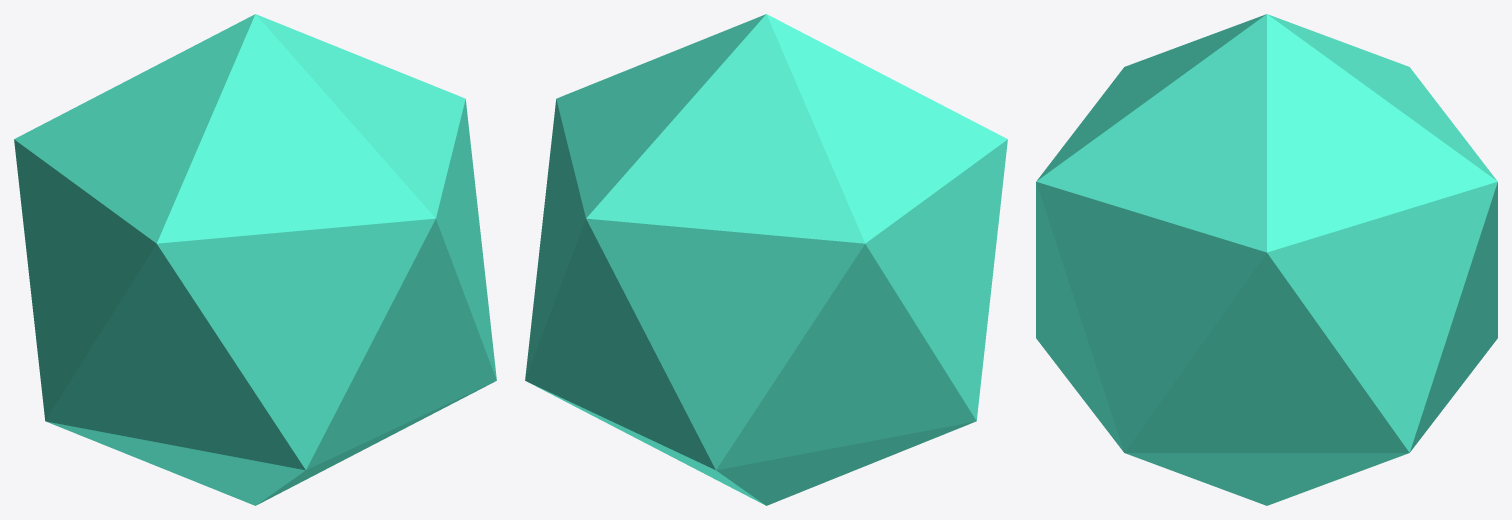
File: playerBullet.obj
3 views of the same model, side by side, from view 1: azimuth 30°, elevation 25°; view 2: azimuth 150°, elevation 25°; view 3: azimuth 270°, elevation 25° (orthographic).
Visible parts, largest first — view 1: ICO球; view 2: ICO球; view 3: ICO球.
Part boxes in pixels (x1,y1,x2,y2): ICO球: (14,14,496,505); ICO球: (525,14,1007,505); ICO球: (1036,14,1497,505).
Bounding box in the file's own units: 1.79 × 2 × 1.7.
